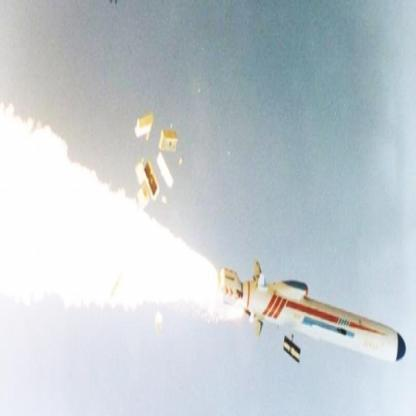MIL_TBM: (250, 282, 406, 372)
